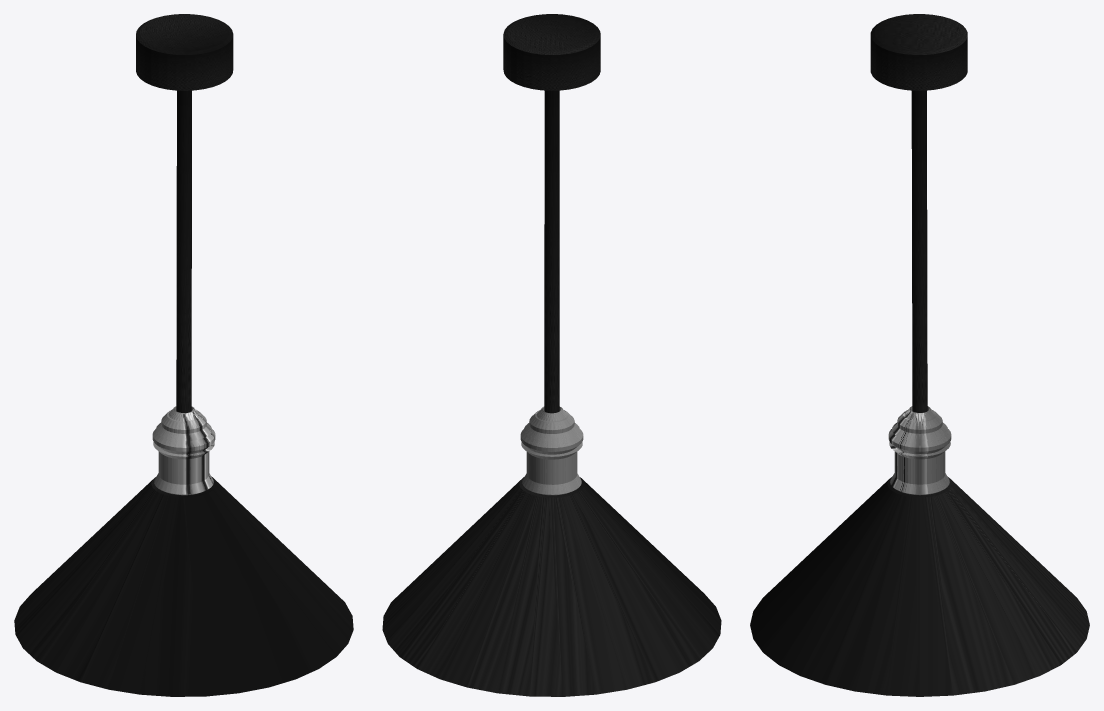
The model's file is luzcolgante.fbx.
3 renders of one model, left to right at view 1: azimuth 30°, elevation 25°; view 2: azimuth 150°, elevation 25°; view 3: azimuth 270°, elevation 25°, orthographic.
Parts seen in each view (by area): view 1: Cylinder.002, Cylinder.003, Cylinder, Cylinder.001; view 2: Cylinder.002, Cylinder.003, Cylinder, Cylinder.001; view 3: Cylinder.002, Cylinder.003, Cylinder, Cylinder.001.
Boxes of the visible parts, x1,y1,x2,y2 form: Cylinder.002: [14, 476, 353, 696]; Cylinder.003: [136, 14, 233, 90]; Cylinder: [176, 90, 191, 412]; Cylinder.001: [152, 406, 215, 495]; Cylinder.002: [382, 477, 721, 696]; Cylinder.003: [503, 14, 600, 90]; Cylinder: [544, 90, 559, 413]; Cylinder.001: [520, 406, 583, 495]; Cylinder.002: [750, 476, 1089, 696]; Cylinder.003: [870, 14, 967, 90]; Cylinder: [911, 90, 927, 412]; Cylinder.001: [888, 406, 951, 495].
Bounding box in the file's own units: 157 × 302 × 157.
